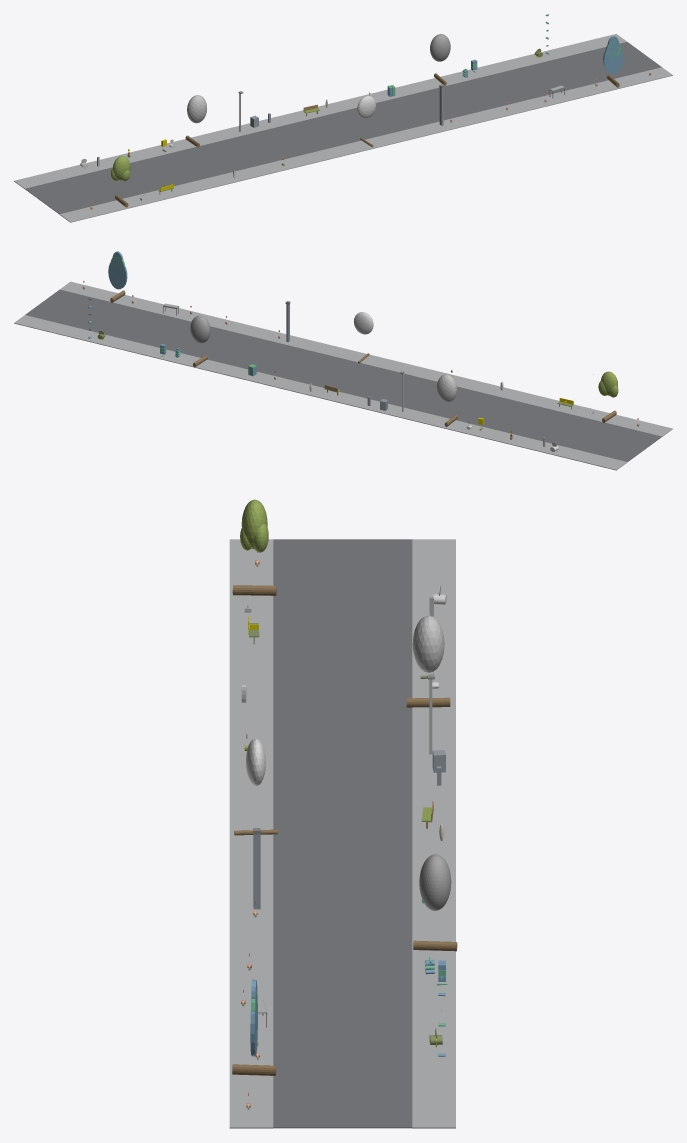
3 renders of one model, top to bottom at view 1: azimuth 30°, elevation 25°; view 2: azimuth 150°, elevation 25°; view 3: azimuth 270°, elevation 25°, orthographic. The views are drawn at different scales.
Parts seen in each view (by area): view 1: road_slab, sidewalk_left, sidewalk_right, inst_0016, inst_0013, inst_0015, inst_0012, inst_0014; view 2: road_slab, sidewalk_right, sidewalk_left, inst_0016, inst_0013, inst_0015, inst_0012, inst_0014; view 3: road_slab, sidewalk_left, sidewalk_right, inst_0015, inst_0013, inst_0012, inst_0016, inst_0014.
Boxes of the visible parts, x1,y1,x2,y2 form: road_slab: (25,42,661,214); sidewalk_left: (59,67,672,222); sidewalk_right: (14,34,626,188); inst_0016: (603,36,623,87); inst_0013: (185,95,206,147); inst_0015: (430,34,450,85); inst_0012: (111,156,130,207); inst_0014: (357,96,375,147); road_slab: (25,289,661,461); sidewalk_right: (14,315,627,470); sidewalk_left: (60,281,672,436); inst_0016: (108,251,127,302); inst_0013: (436,374,457,426); inst_0015: (190,315,210,367); inst_0012: (598,371,618,422); inst_0014: (354,312,373,363); road_slab: (273,539,412,1128); sidewalk_left: (229,539,273,1128); sidewalk_right: (412,539,455,1128); inst_0015: (413,854,457,951); inst_0013: (406,615,450,707); inst_0012: (232,499,276,595); inst_0016: (232,979,275,1075); inst_0014: (234,738,277,835).
Size of the model in its own units: 80 by 6.08 by 13.08.
